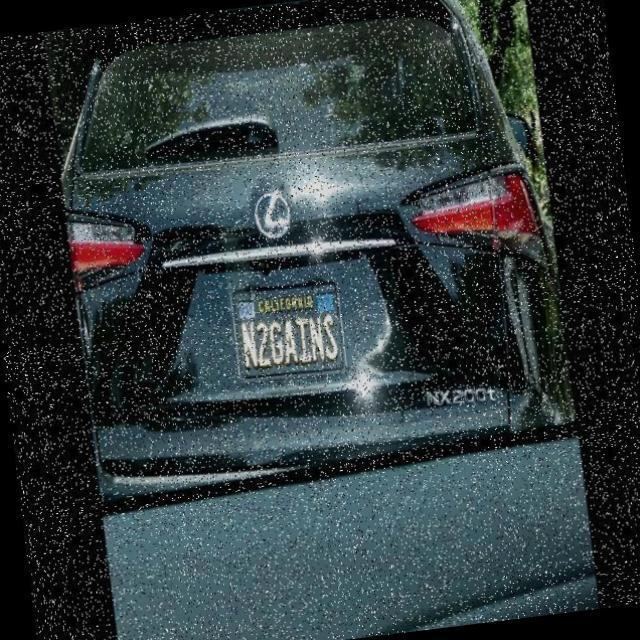License Plate: (230, 279, 346, 377)
